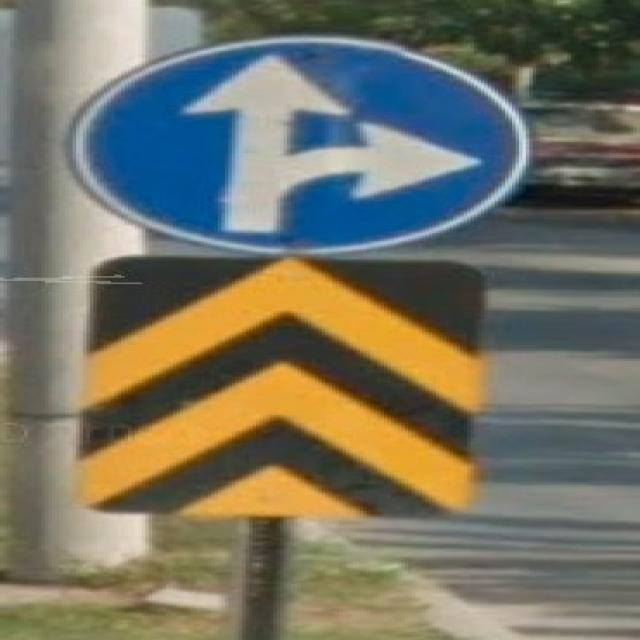Straight or Right: (82, 40, 529, 257)
